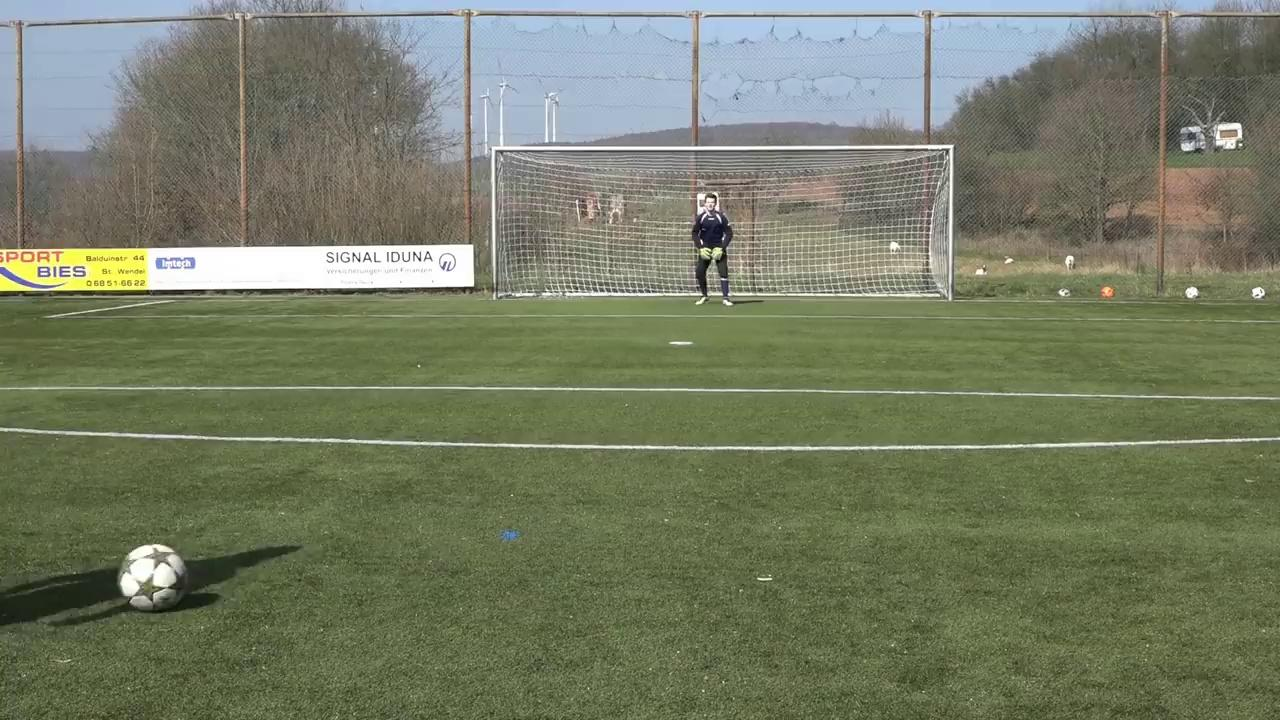ball: (118, 542, 189, 615), (1184, 285, 1201, 300), (1099, 285, 1115, 300), (1251, 286, 1267, 300), (1058, 285, 1071, 297)
goalkeeper: (691, 193, 735, 307)
